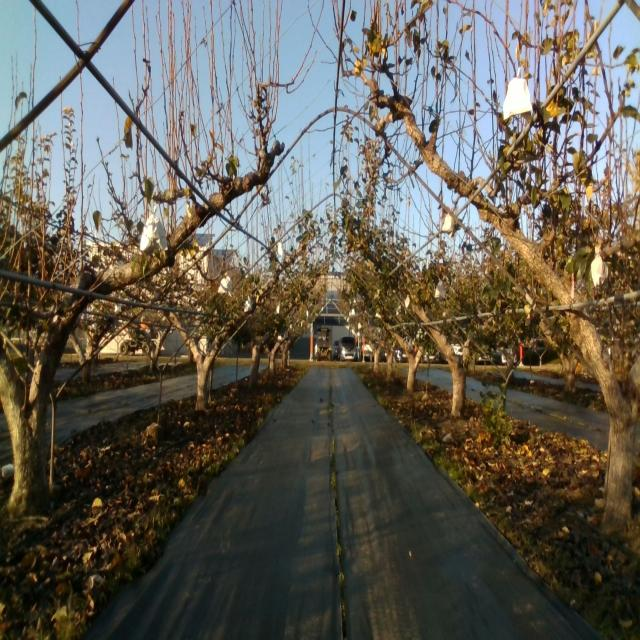pearbags: (139, 202, 169, 252), (503, 69, 532, 120), (590, 246, 610, 288), (217, 272, 232, 295), (441, 212, 454, 238), (434, 278, 446, 298)
